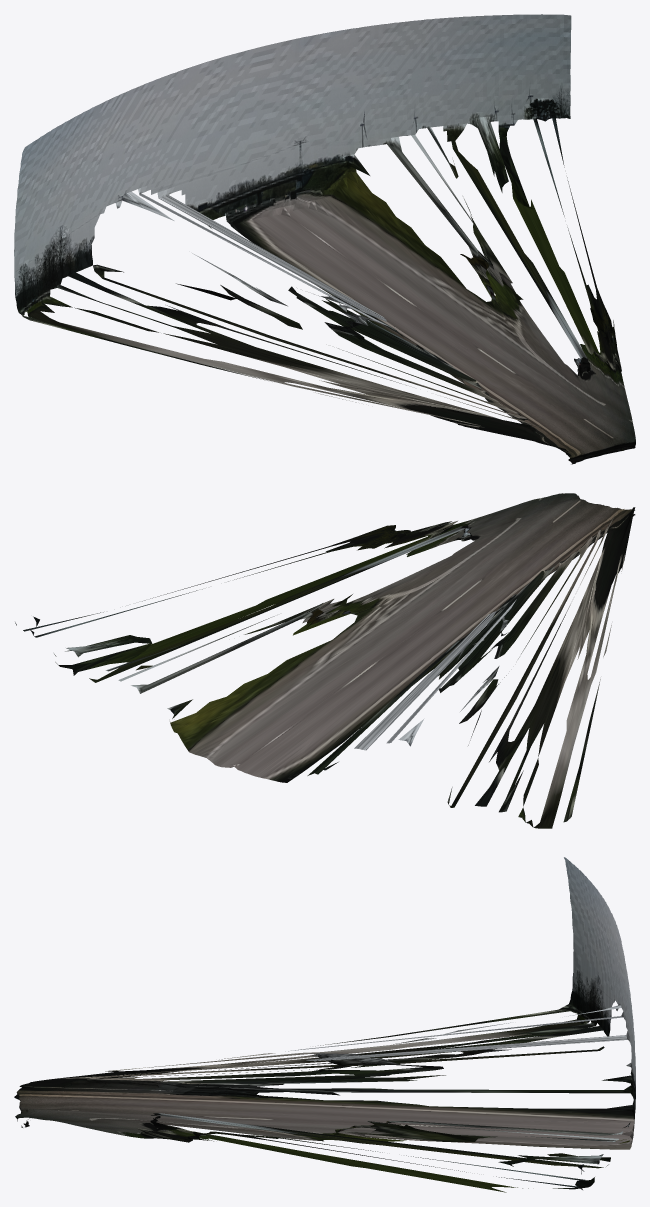
The picture shows the model from 3 angles, top to bottom: view 1: azimuth 30°, elevation 25°; view 2: azimuth 150°, elevation 25°; view 3: azimuth 270°, elevation 25°; orthographic projection. The views are drawn at different scales.
Visible parts, largest first — view 1: defaultobject; view 2: defaultobject; view 3: defaultobject.
Boxes of the visible parts, left/top/right/bottom form: defaultobject: left=14, top=14, right=635, bottom=464; defaultobject: left=15, top=493, right=635, bottom=828; defaultobject: left=14, top=857, right=635, bottom=1192.
Size of the model in its own units: 41.11 by 13.52 by 44.56.
Materials: 1 (1 with a texture image).
